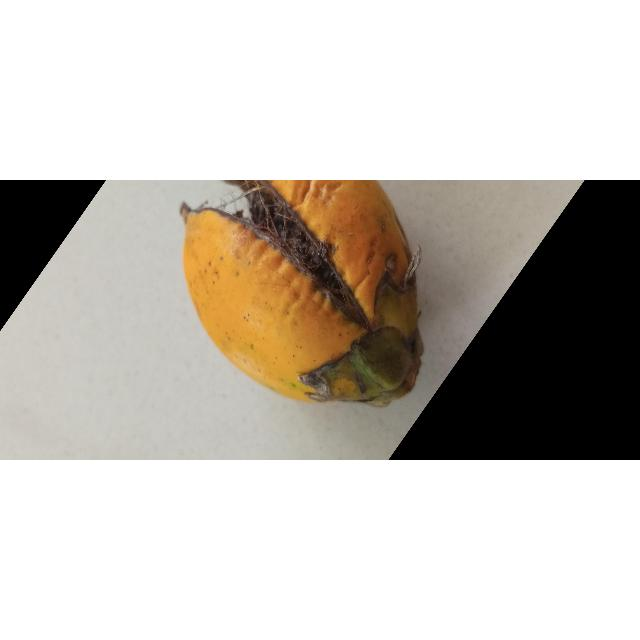damaged: (179, 180, 422, 408)
